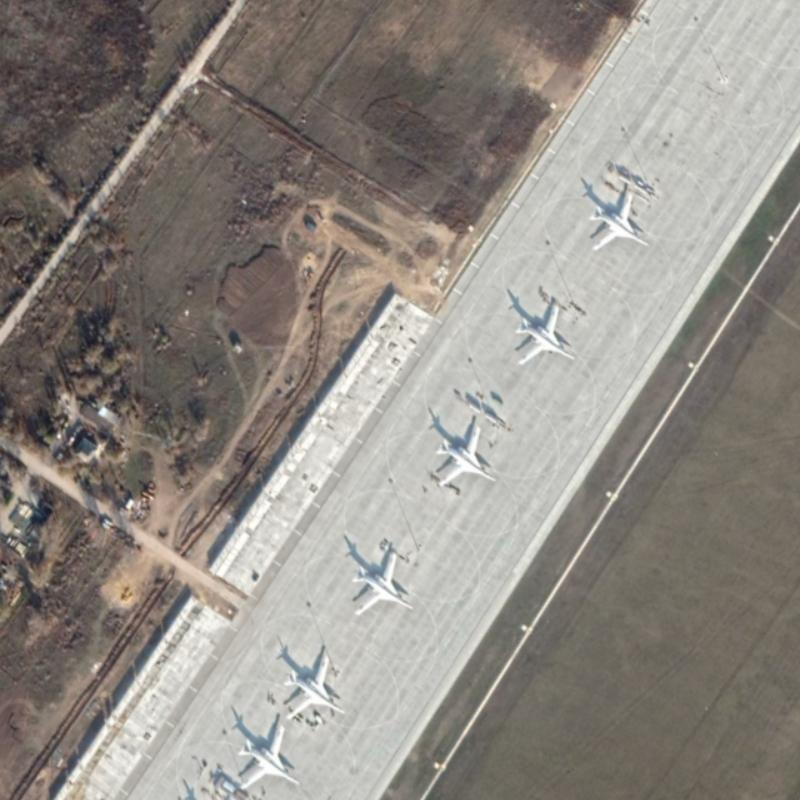A6: (236, 719, 302, 794), (280, 651, 348, 721), (349, 549, 415, 620), (432, 421, 498, 491), (510, 298, 576, 367), (584, 185, 649, 252)
